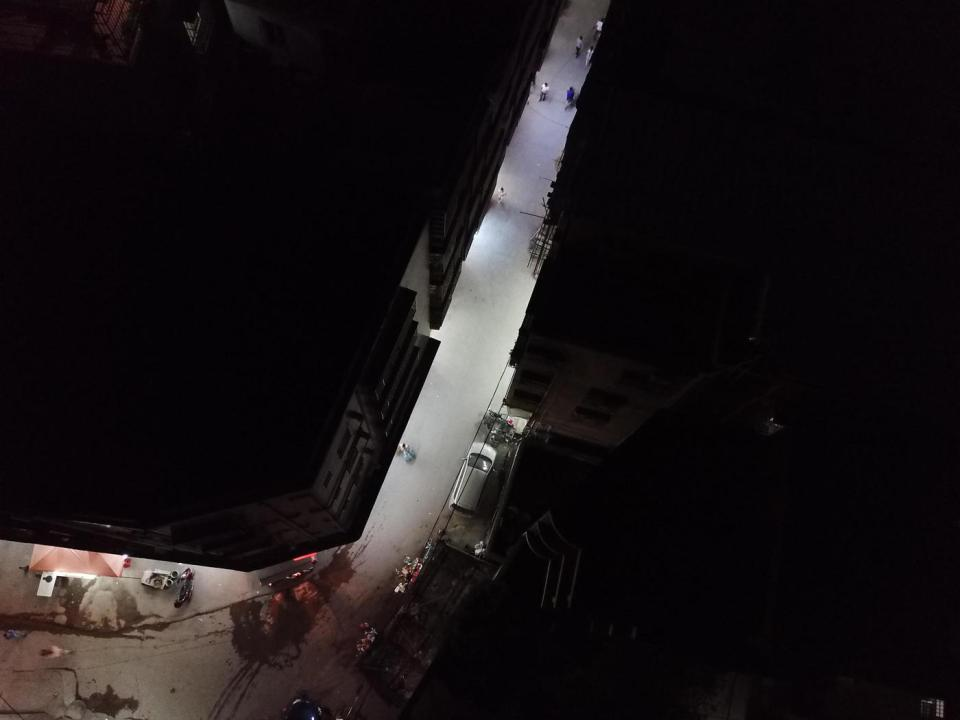van: (448, 441, 498, 519)
